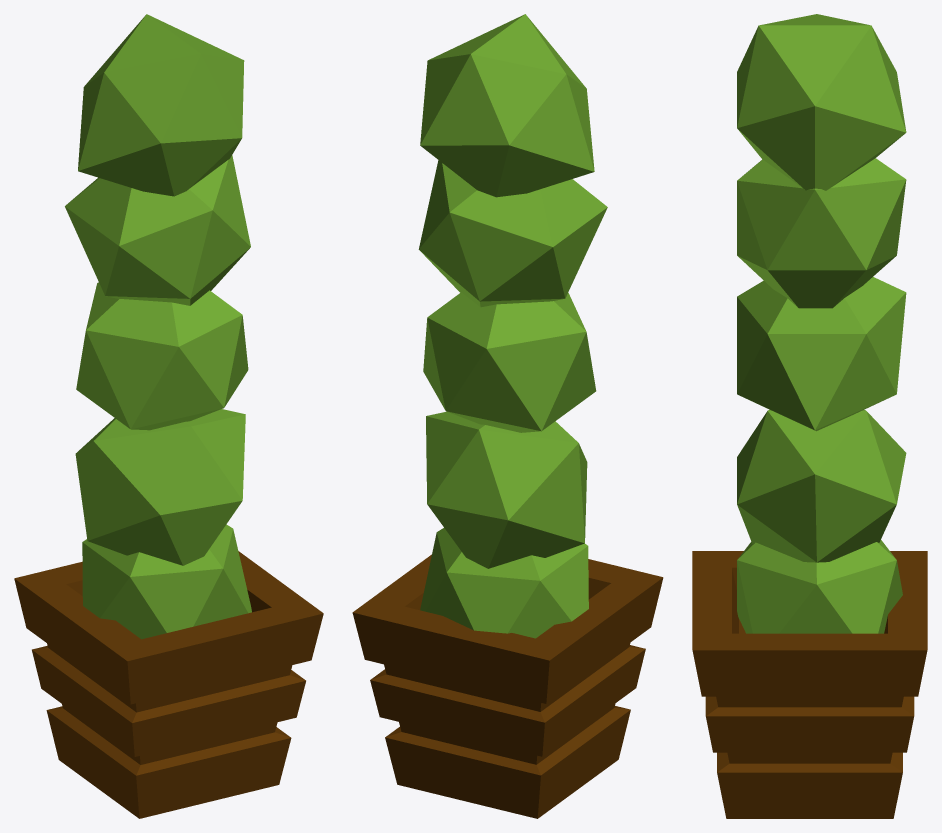
Rendered from Flower4.fbx.
3 views of the same model, side by side, from view 1: azimuth 30°, elevation 25°; view 2: azimuth 150°, elevation 25°; view 3: azimuth 270°, elevation 25° (orthographic). The views are drawn at different scales.
Visible parts, largest first — view 1: Cube.008; view 2: Cube.008; view 3: Cube.008.
Boxes of the visible parts, x1,y1,x2,y2 form: Cube.008: (14, 14, 323, 818); Cube.008: (352, 14, 663, 818); Cube.008: (692, 14, 927, 818).
Size of the model in its own units: 35.62 by 127 by 35.62.
